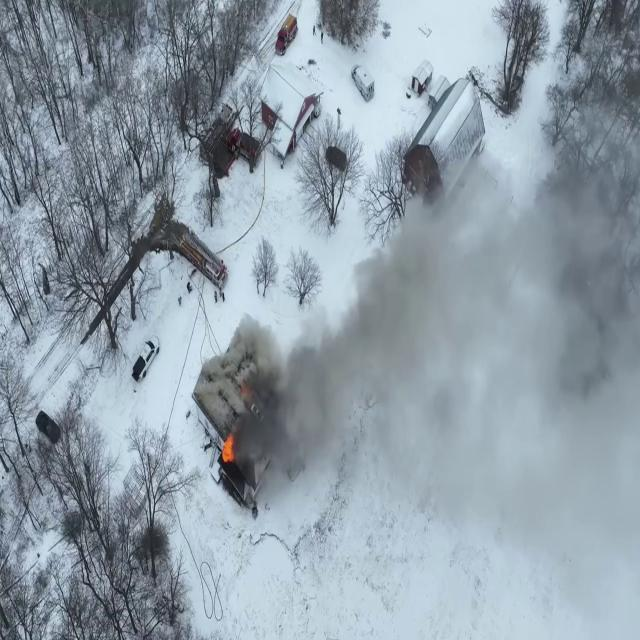Fire: (218, 428, 238, 469)
Smoke: (355, 95, 640, 482), (218, 286, 348, 512)
